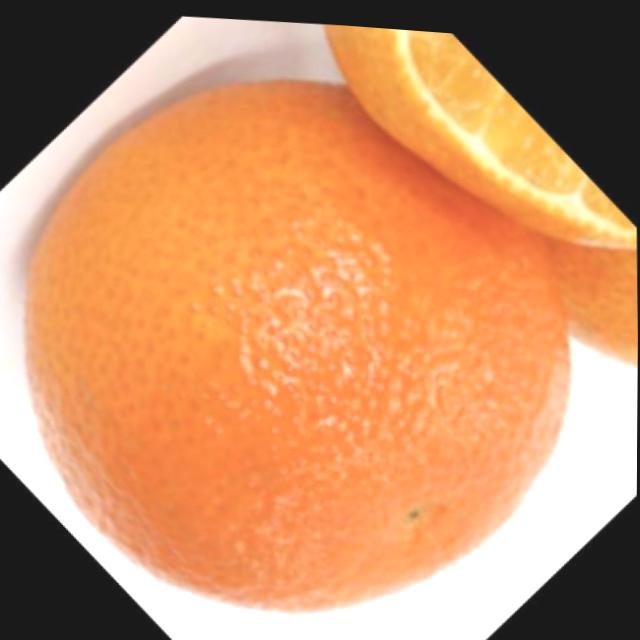Orange: (17, 54, 579, 633), (320, 19, 638, 247), (548, 224, 639, 367)
